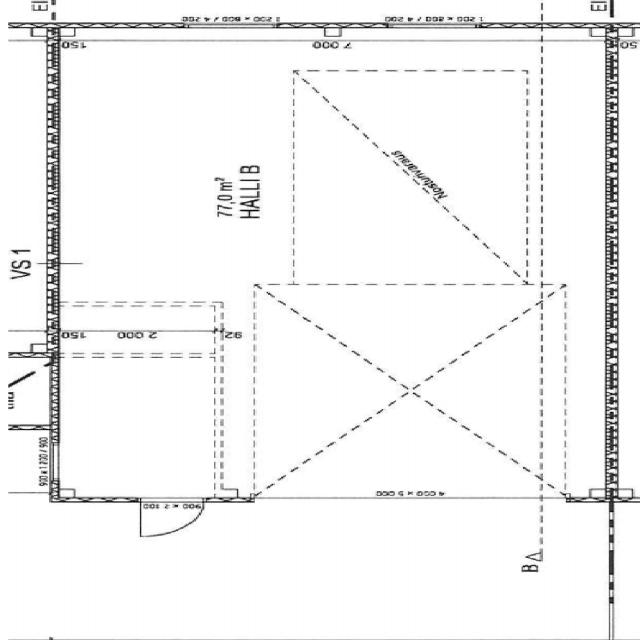door: (141, 497, 202, 536)
